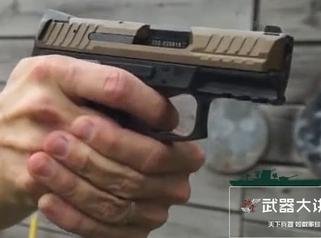gun: (1, 1, 321, 238)
